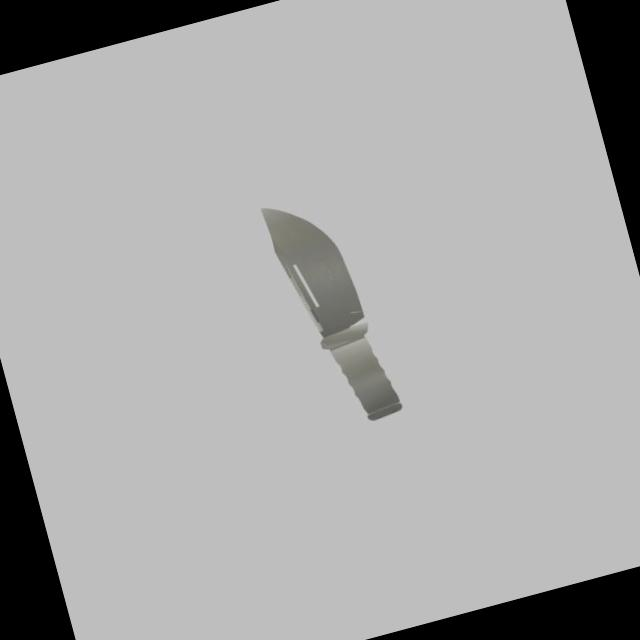knife: (318, 319, 403, 428)
